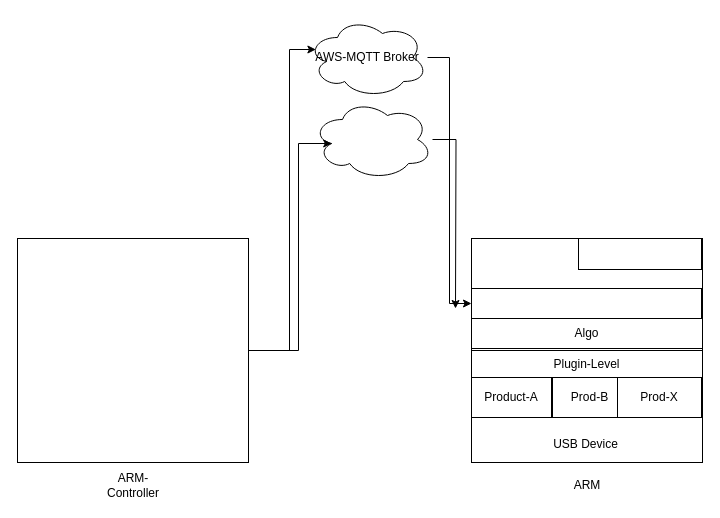
This 720x518 diagram has some shape labels left out. The box of each missing label's shape, as (x1, y1, x2, y2) in pixels:
Agora: (312, 98, 432, 180)
Local MQTT Broker: (578, 238, 702, 270)
MQTT Client: (470, 288, 702, 318)
